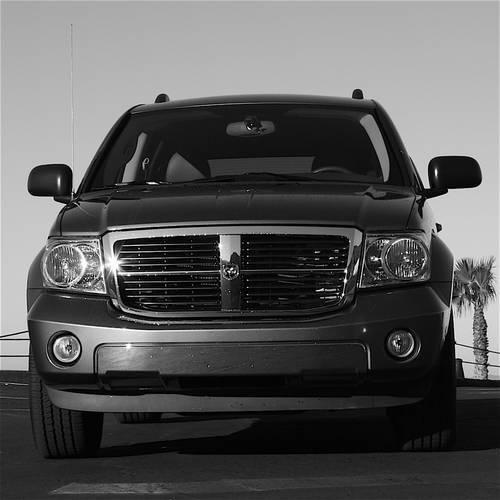car: (29, 91, 482, 454)
